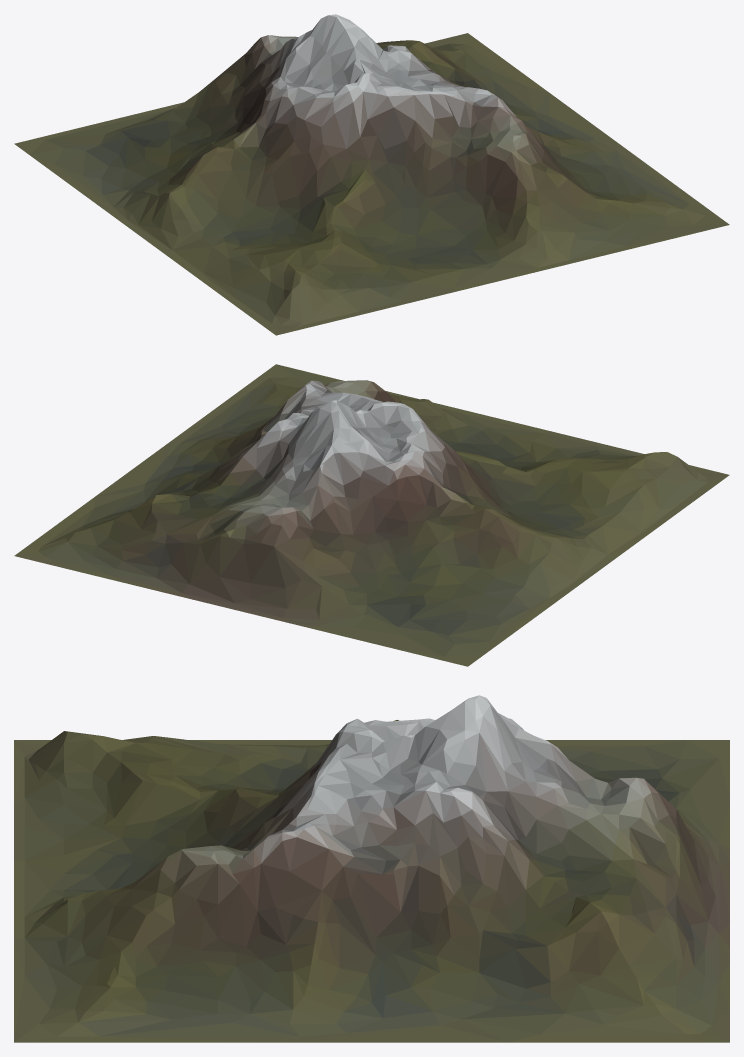
File: Sylvan-Snow_A.fbx
3 renders of one model, top to bottom at view 1: azimuth 30°, elevation 25°; view 2: azimuth 150°, elevation 25°; view 3: azimuth 270°, elevation 25°, orthographic. The views are drawn at different scales.
Parts seen in each view (by area): view 1: Sylvan-Snow_A; view 2: Sylvan-Snow_A; view 3: Sylvan-Snow_A.
Part boxes in pixels (x1,y1,x2,y2): Sylvan-Snow_A: (14,14,729,335); Sylvan-Snow_A: (14,364,729,666); Sylvan-Snow_A: (14,695,729,1042).
Bounding box in the file's own units: 10000 × 2981 × 10000.
